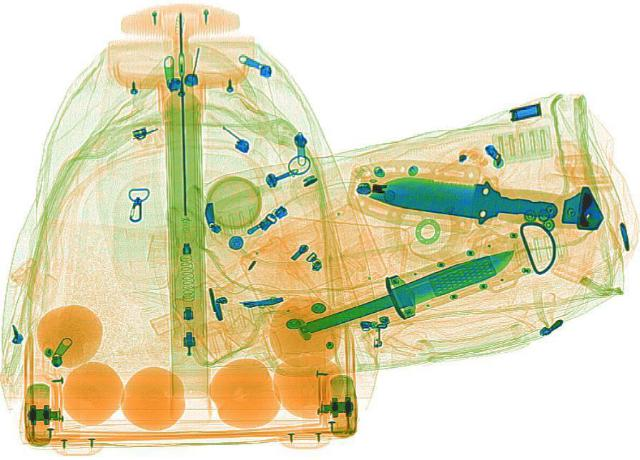Knife: (294, 241, 526, 338), (365, 170, 561, 227)
